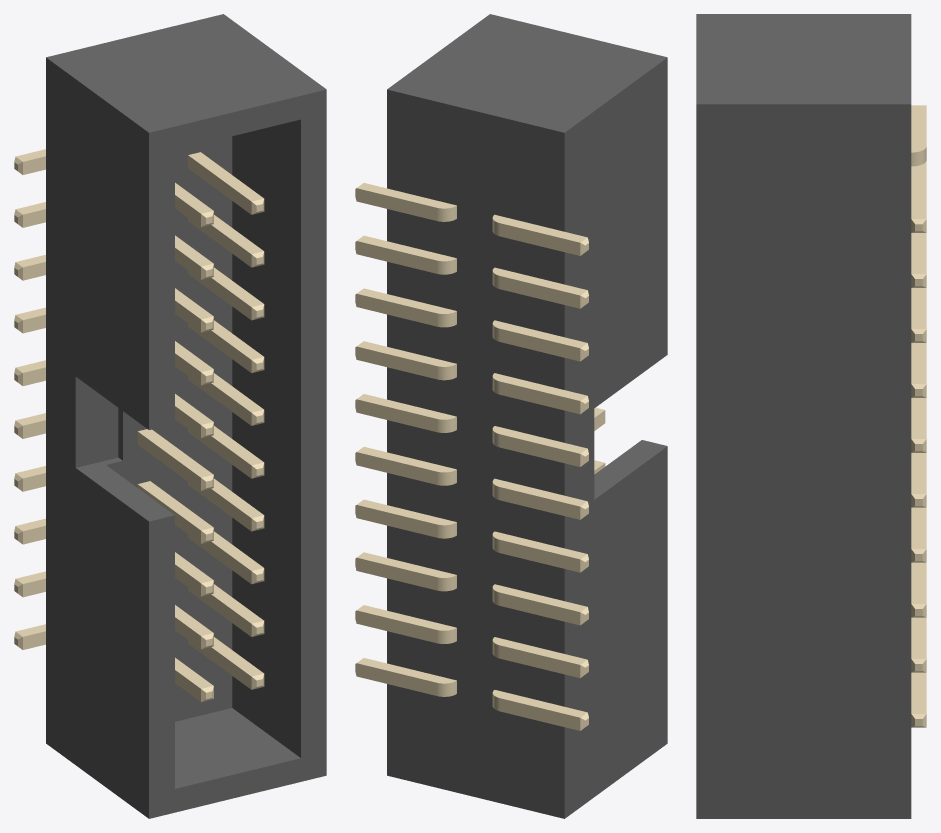
Rendered from IDC-Header_2x10_P2.54mm_Vertical_SMD.glb.
3 views of the same model, side by side, from view 1: azimuth 30°, elevation 25°; view 2: azimuth 150°, elevation 25°; view 3: azimuth 270°, elevation 25° (orthographic). The views are drawn at different scales.
Parts seen in each view (by area): view 1: Shape_IndexedFaceSet.001, Shape_IndexedFaceSet, Shape_IndexedFaceSet.005, Shape_IndexedFaceSet.025, Shape_IndexedFaceSet.009, Shape_IndexedFaceSet.004, Shape_IndexedFaceSet.023, Shape_IndexedFaceSet.002, Shape_IndexedFaceSet.183, Shape_IndexedFaceSet.122, Shape_IndexedFaceSet.182, Shape_IndexedFaceSet.121 (+19 smaller); view 2: Shape_IndexedFaceSet.012, Shape_IndexedFaceSet.001, Shape_IndexedFaceSet.009, Shape_IndexedFaceSet.002, Shape_IndexedFaceSet.221, Shape_IndexedFaceSet.224, Shape_IndexedFaceSet.248, Shape_IndexedFaceSet.209, Shape_IndexedFaceSet.215, Shape_IndexedFaceSet.218, Shape_IndexedFaceSet.236, Shape_IndexedFaceSet.239 (+32 smaller); view 3: Shape_IndexedFaceSet.010, Shape_IndexedFaceSet.009, Shape_IndexedFaceSet.095, Shape_IndexedFaceSet.036, Shape_IndexedFaceSet.054, Shape_IndexedFaceSet.057, Shape_IndexedFaceSet.060, Shape_IndexedFaceSet.063, Shape_IndexedFaceSet.039, Shape_IndexedFaceSet.042, Shape_IndexedFaceSet.045, Shape_IndexedFaceSet.048 (+1 smaller).
Part boxes in pixels (x1=…): Shape_IndexedFaceSet.001: x1=46, y1=57, x2=148, y2=818; Shape_IndexedFaceSet: x1=149, y1=89, x2=326, y2=818; Shape_IndexedFaceSet.005: x1=232, y1=119, x2=300, y2=757; Shape_IndexedFaceSet.025: x1=106, y1=136, x2=232, y2=721; Shape_IndexedFaceSet.009: x1=46, y1=14, x2=326, y2=132; Shape_IndexedFaceSet.004: x1=175, y1=708, x2=300, y2=788; Shape_IndexedFaceSet.023: x1=75, y1=377, x2=118, y2=467; Shape_IndexedFaceSet.002: x1=76, y1=457, x2=174, y2=521; Shape_IndexedFaceSet.183: x1=188, y1=155, x2=251, y2=214; Shape_IndexedFaceSet.122: x1=137, y1=432, x2=200, y2=490; Shape_IndexedFaceSet.182: x1=188, y1=152, x2=263, y2=201; Shape_IndexedFaceSet.121: x1=138, y1=481, x2=213, y2=530; Shape_IndexedFaceSet.012: x1=387, y1=89, x2=564, y2=818; Shape_IndexedFaceSet.001: x1=564, y1=58, x2=667, y2=818; Shape_IndexedFaceSet.009: x1=387, y1=14, x2=667, y2=132; Shape_IndexedFaceSet.002: x1=594, y1=440, x2=667, y2=499; Shape_IndexedFaceSet.221: x1=356, y1=610, x2=436, y2=643; Shape_IndexedFaceSet.224: x1=356, y1=663, x2=436, y2=695; Shape_IndexedFaceSet.248: x1=500, y1=329, x2=580, y2=361; Shape_IndexedFaceSet.209: x1=356, y1=399, x2=436, y2=431; Shape_IndexedFaceSet.215: x1=356, y1=505, x2=436, y2=537; Shape_IndexedFaceSet.218: x1=356, y1=558, x2=436, y2=590; Shape_IndexedFaceSet.236: x1=500, y1=540, x2=580, y2=572; Shape_IndexedFaceSet.239: x1=500, y1=487, x2=580, y2=519; Shape_IndexedFaceSet.010: x1=696, y1=104, x2=911, y2=818; Shape_IndexedFaceSet.009: x1=696, y1=14, x2=911, y2=104; Shape_IndexedFaceSet.095: x1=911, y1=105, x2=926, y2=152; Shape_IndexedFaceSet.036: x1=911, y1=171, x2=926, y2=218; Shape_IndexedFaceSet.054: x1=911, y1=507, x2=926, y2=548; Shape_IndexedFaceSet.057: x1=911, y1=562, x2=926, y2=603; Shape_IndexedFaceSet.060: x1=911, y1=617, x2=926, y2=658; Shape_IndexedFaceSet.063: x1=911, y1=672, x2=926, y2=713; Shape_IndexedFaceSet.039: x1=911, y1=233, x2=926, y2=273; Shape_IndexedFaceSet.042: x1=911, y1=288, x2=926, y2=328; Shape_IndexedFaceSet.045: x1=911, y1=343, x2=926, y2=383; Shape_IndexedFaceSet.048: x1=911, y1=398, x2=926, y2=438.
Bounding box in the file's own units: 4.57 × 13 × 3.8.
